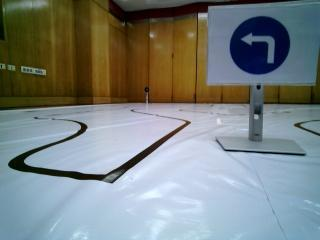left: (218, 8, 307, 82)
